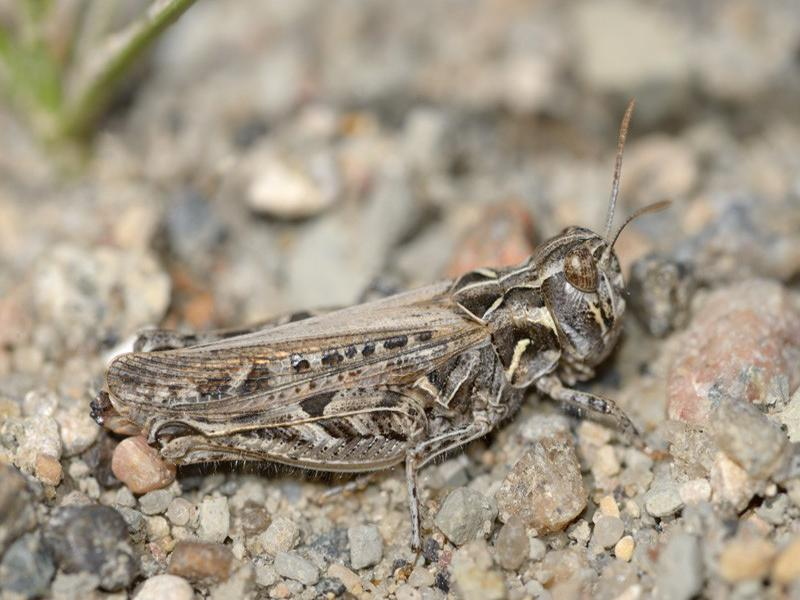Grasshopper: (82, 224, 652, 507)
